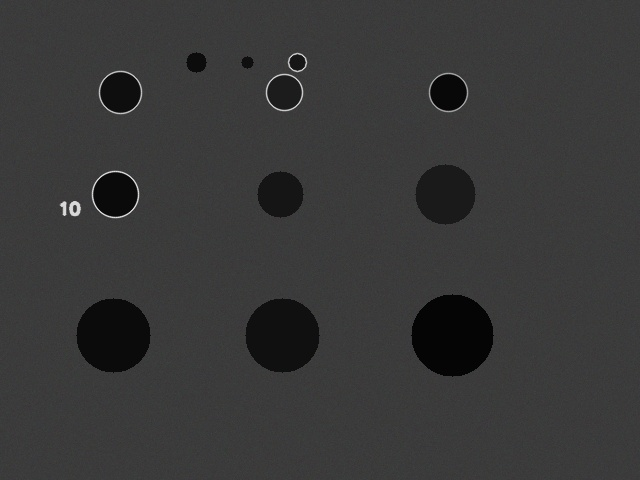hole: (411, 294, 493, 376), (76, 298, 150, 372), (245, 298, 319, 372), (415, 164, 475, 224), (92, 171, 138, 217), (257, 171, 303, 217), (99, 71, 141, 113), (429, 73, 467, 111), (266, 74, 302, 110), (186, 52, 206, 72), (288, 53, 306, 71), (241, 56, 253, 68)
